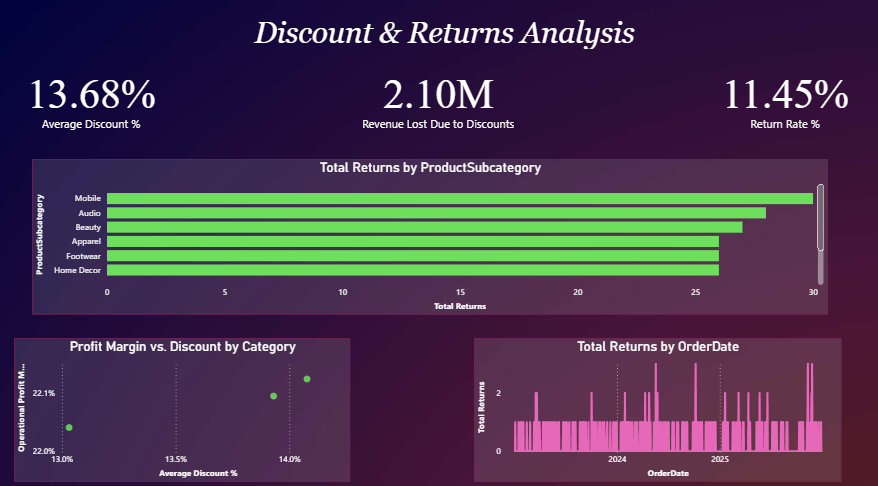

The dashboard page shown, as its layout file describes it:
{"tool":"powerbi","page":{"name":"Discount & Returns Analysis","canvas":[1280,720],"ordinal":1},"visuals":[{"type":"card","fields":{"Values":["Sample Data.Return Rate %"]},"box":[1000,57.1,280,177.1],"z":0},{"type":"textbox","box":[122.9,22.9,1052.9,67.1],"z":1000},{"type":"card","fields":{"Values":["Sample Data.Revenue Lost Due to Discounts"]},"box":[500,57.1,280,177.1],"z":2000},{"type":"card","fields":{"Values":["Sample Data.Average Discount %"]},"box":[0,57.1,280,177.1],"z":3000},{"type":"scatterChart","title":"Profit Margin vs. Discount by Category","fields":{"X":["Sample Data.Average Discount %"],"Y":["Sample Data.Operational Profit Margin %"],"Category":["Sample Data.ProductCategory"]},"box":[28.6,492.9,484.3,207.1],"z":4000},{"type":"clusteredBarChart","fields":{"Category":["Sample Data.ProductSubcategory"],"Y":["Sample Data.Total Returns"]},"box":[54.3,234.3,1145.7,224.3],"z":5000},{"type":"lineChart","fields":{"Category":["Sample Data.OrderDate"],"Y":["Sample Data.Total Returns"]},"box":[691.4,492.9,528.6,207.1],"z":6000}]}

Visuals, with their boxes in screenshot pixels (x1, y1, x2, y2), scaled from the page's 1280x720 canvas onto the 878x486 screenshot:
card - Sample Data.Return Rate %: x1=686, y1=39, x2=877, y2=158
textbox: x1=84, y1=15, x2=807, y2=61
card - Sample Data.Revenue Lost Due to Discounts: x1=343, y1=39, x2=535, y2=158
card - Sample Data.Average Discount %: x1=0, y1=39, x2=192, y2=158
"Profit Margin vs. Discount by Category" scatterChart: x1=20, y1=333, x2=352, y2=473
clusteredBarChart - Sample Data.ProductSubcategory x Sample Data.Total Returns: x1=37, y1=158, x2=823, y2=310
lineChart - Sample Data.OrderDate x Sample Data.Total Returns: x1=474, y1=333, x2=837, y2=473
